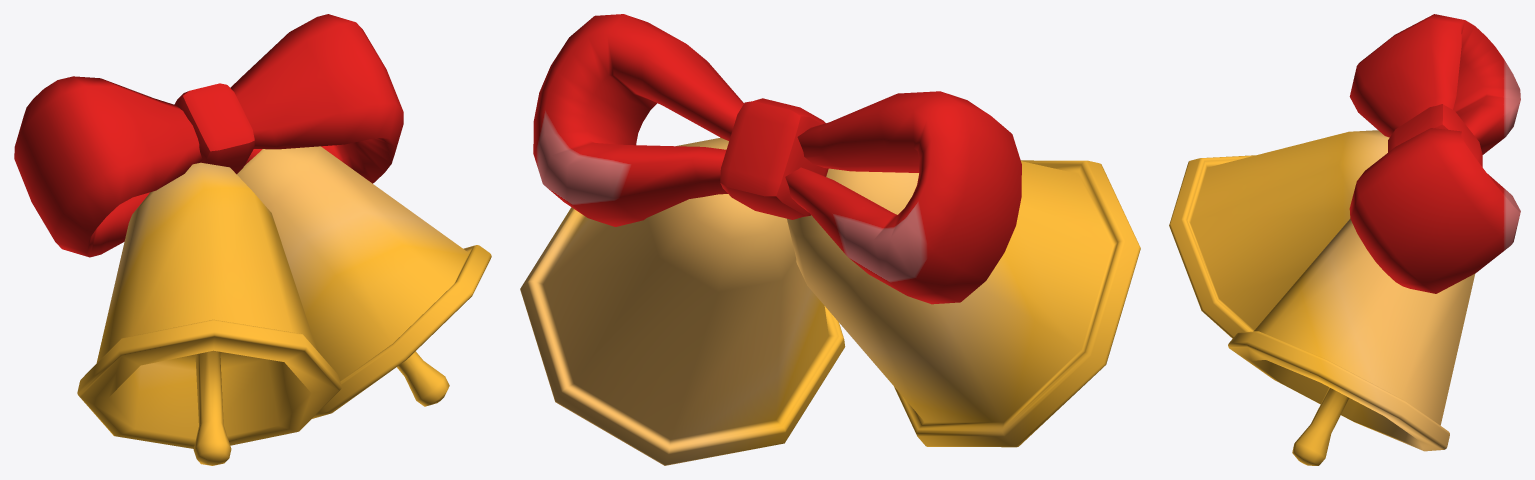
File: Bells.fbx
3 renders of one model, left to right at view 1: azimuth 30°, elevation 25°; view 2: azimuth 150°, elevation 25°; view 3: azimuth 270°, elevation 25°, orthographic. The views are drawn at different scales.
Parts seen in each view (by area): view 1: Bells; view 2: Bells; view 3: Bells.
Boxes of the visible parts, x1,y1,x2,y2 form: Bells: [14, 14, 491, 465]; Bells: [520, 14, 1140, 465]; Bells: [1169, 14, 1520, 465].
Size of the model in its own units: 65.09 by 52.35 by 50.45.
